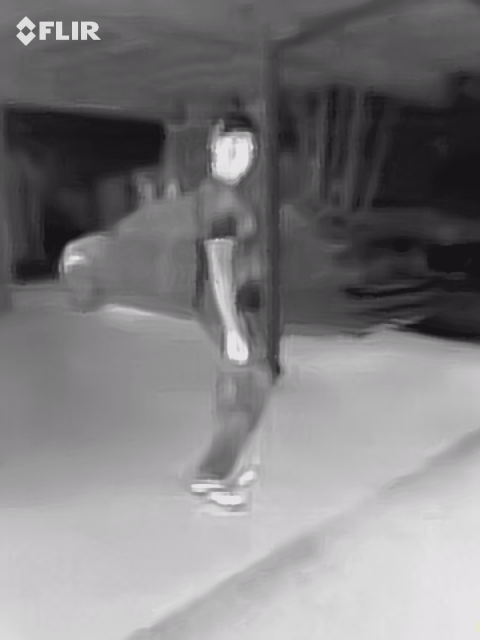head: (205, 117, 258, 187)
